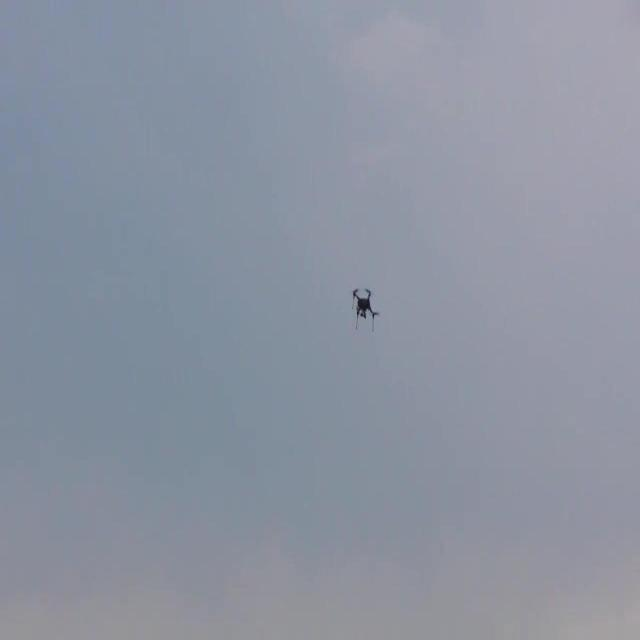drone: (350, 285, 380, 330)
